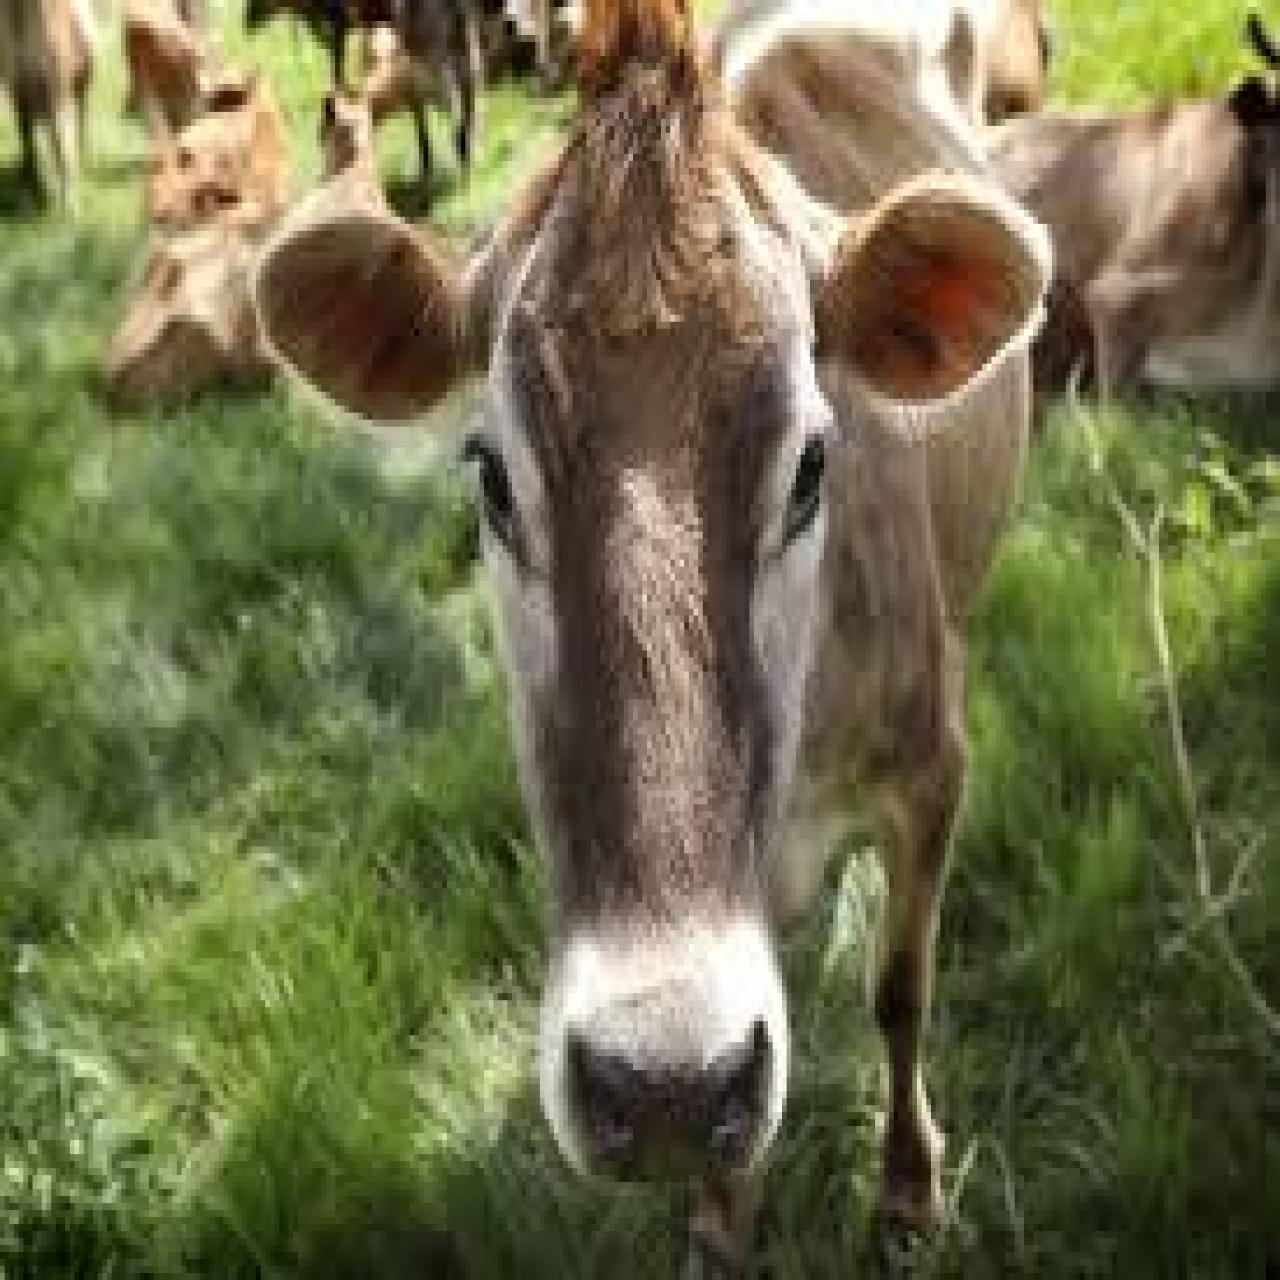cow: (258, 0, 1050, 1259), (964, 91, 1280, 434), (101, 224, 324, 434), (142, 42, 300, 238)
